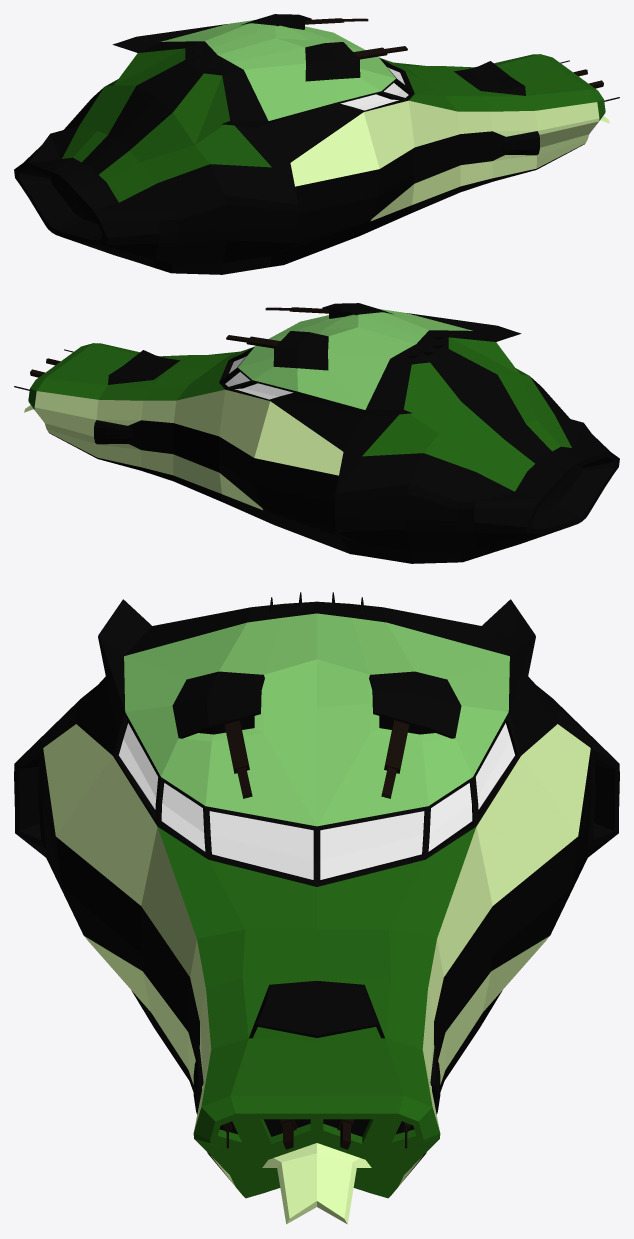
File: SpaceshipEnemy.fbx
The picture shows the model from 3 angles, top to bottom: view 1: azimuth 30°, elevation 25°; view 2: azimuth 150°, elevation 25°; view 3: azimuth 270°, elevation 25°; orthographic projection. The views are drawn at different scales.
Parts seen in each view (by area): view 1: Nave.001; view 2: Nave.001; view 3: Nave.001.
Part boxes in pixels (x1,y1,x2,y2): Nave.001: [14, 14, 619, 274]; Nave.001: [14, 303, 619, 563]; Nave.001: [14, 592, 619, 1224].
Size of the model in its own units: 552 by 297 by 1029.
